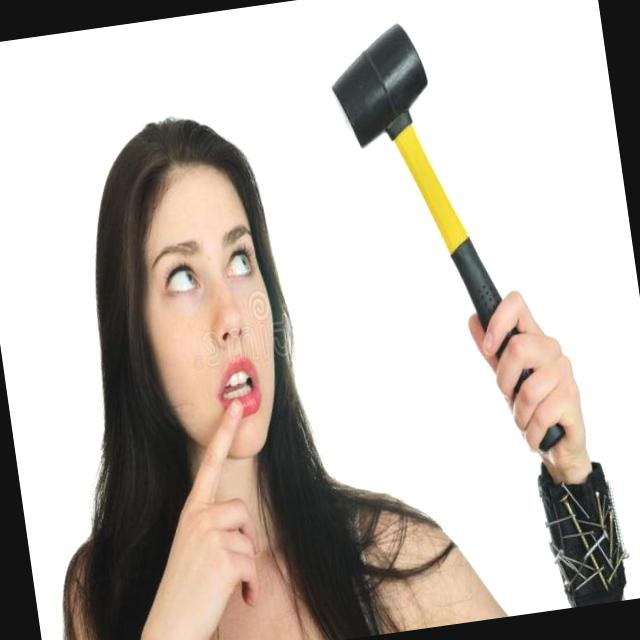hammer: (333, 24, 501, 328)
